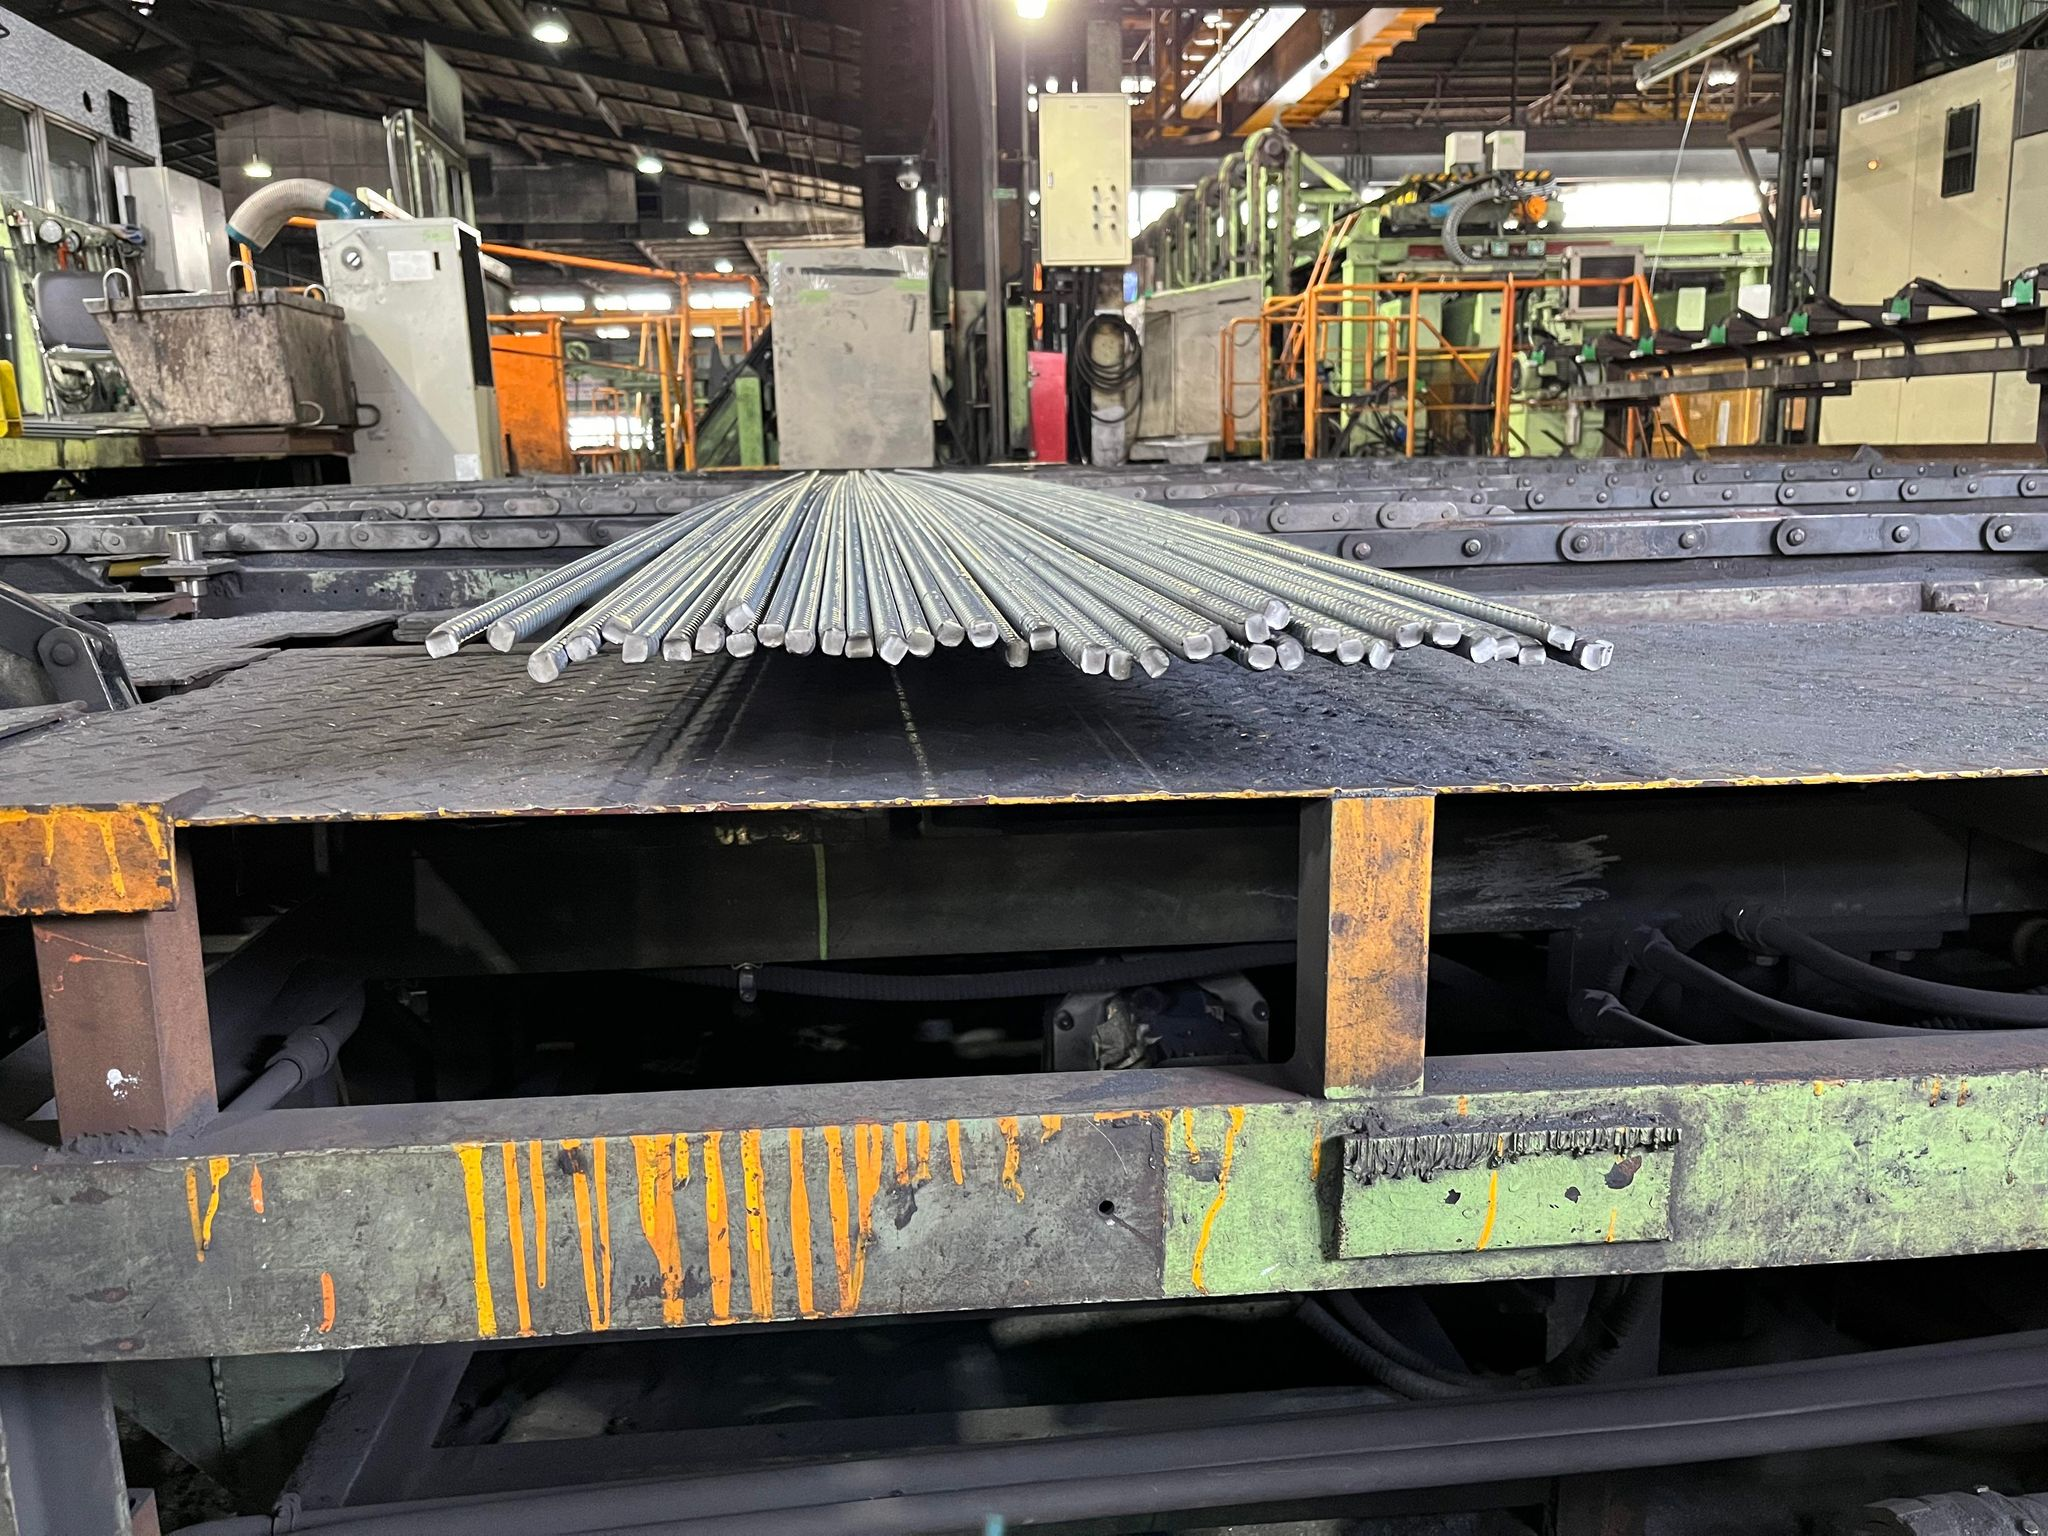rod: (421, 626, 461, 662), (484, 618, 519, 655), (526, 649, 561, 684), (1138, 644, 1172, 681), (1577, 637, 1614, 671), (1180, 629, 1214, 663), (693, 620, 726, 655), (660, 632, 693, 665), (877, 632, 910, 666), (563, 634, 598, 665), (722, 602, 758, 632), (1276, 637, 1306, 673), (1263, 595, 1293, 631), (600, 613, 632, 645), (966, 616, 998, 649), (1467, 632, 1500, 665), (619, 631, 650, 665), (1242, 611, 1272, 645), (1079, 642, 1108, 678), (1367, 636, 1397, 671), (1543, 623, 1579, 652), (1247, 641, 1279, 671), (784, 628, 818, 657), (1309, 624, 1343, 653), (843, 629, 874, 660), (1027, 623, 1058, 653), (1335, 636, 1366, 666), (1393, 620, 1426, 649), (722, 631, 756, 658), (1108, 649, 1135, 682), (1430, 620, 1464, 647), (935, 618, 964, 649), (1492, 632, 1521, 663), (819, 624, 847, 657), (1005, 636, 1030, 670), (906, 629, 935, 658), (755, 621, 785, 649), (1208, 623, 1232, 655), (1516, 644, 1546, 666)
